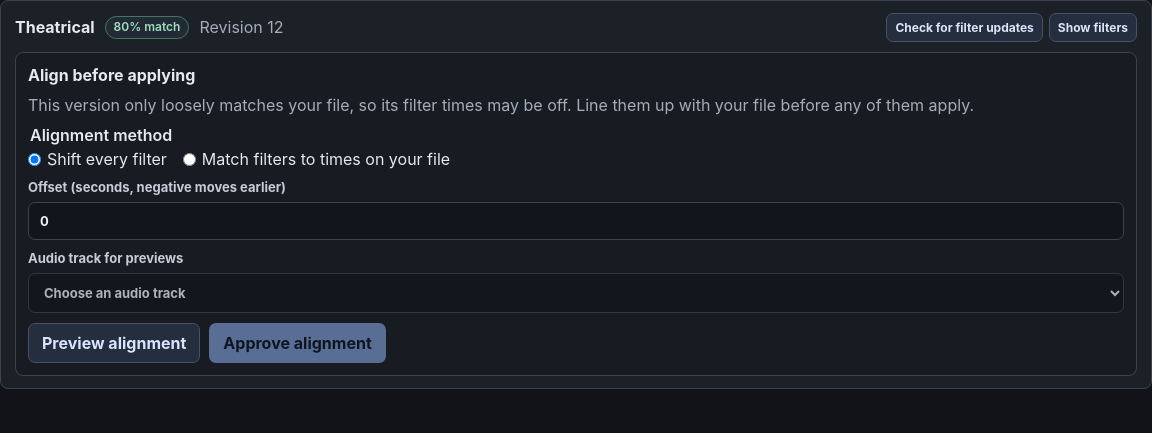
Test case: reports when a check finds nothing new and gates a fuzzy link behind alignment
This screenshot has width=1152, height=433.
Check: the heading "Align before applying" is shown, box [28,65,195,85]
Click the button "Check for filter updates" at coordinates (965, 28), box [886,13,1043,42]
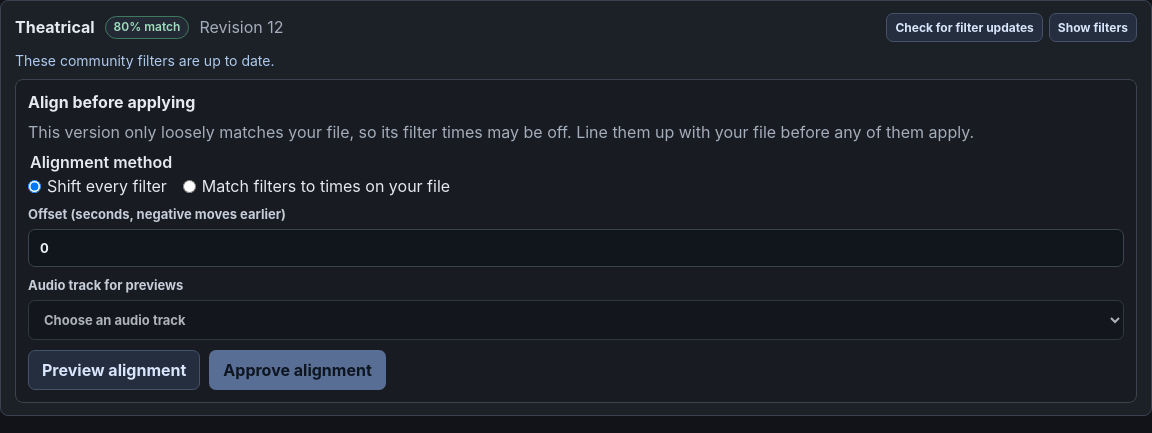
Check: the text "These community filters are up to date." is shown, box [15,52,274,69]
